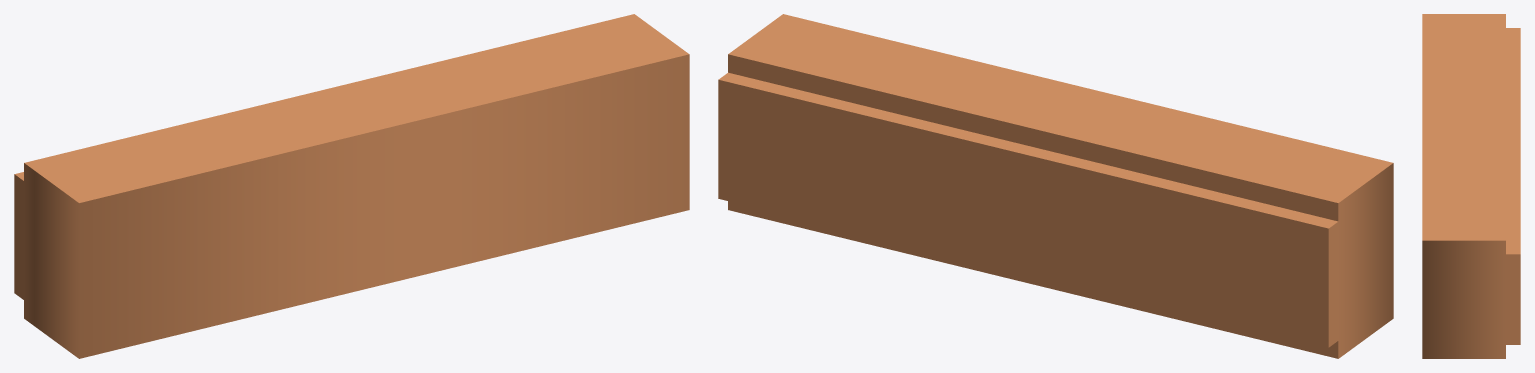
3 views of the same model, side by side, from view 1: azimuth 30°, elevation 25°; view 2: azimuth 150°, elevation 25°; view 3: azimuth 270°, elevation 25° (orthographic). The views are drawn at different scales.
Parts seen in each view (by area): view 1: kitchenBar.002_ID9.000; view 2: kitchenBar.002_ID9.000; view 3: kitchenBar.002_ID9.000.
Part boxes in pixels (left/top/right/bottom): kitchenBar.002_ID9.000: left=14, top=14, right=689, bottom=358; kitchenBar.002_ID9.000: left=718, top=14, right=1393, bottom=358; kitchenBar.002_ID9.000: left=1422, top=14, right=1520, bottom=358.
Bounding box in the file's own units: 3.77 × 0.9189 × 0.6921.
